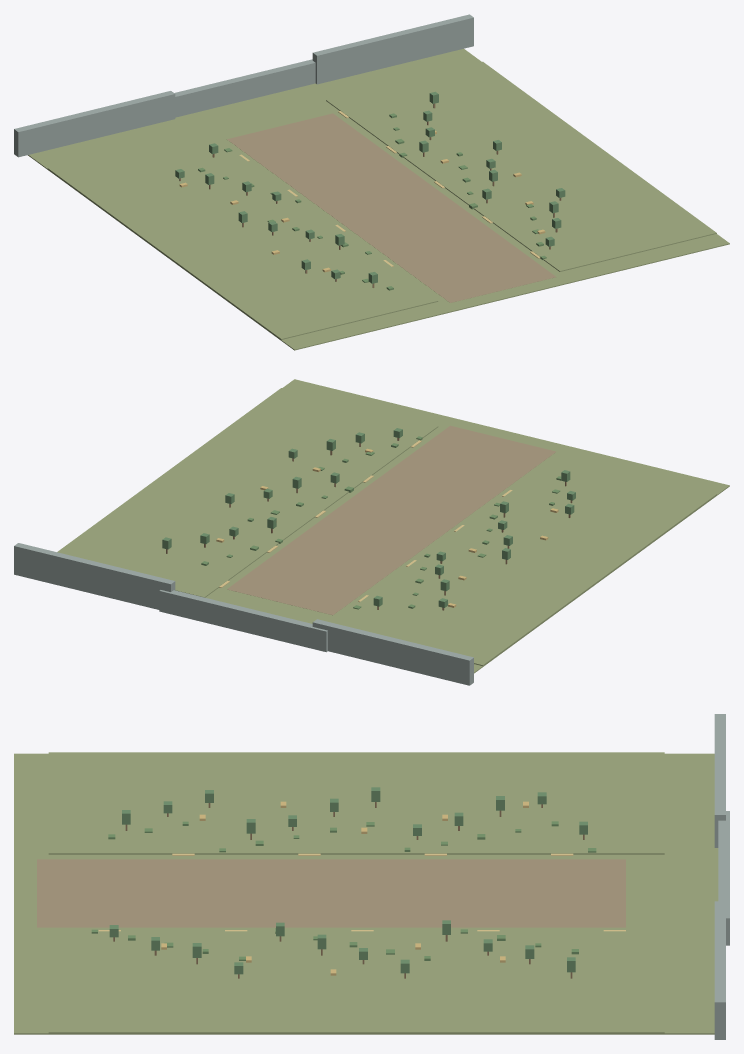
The model's file is br-field.gltf.
3 renders of one model, top to bottom at view 1: azimuth 30°, elevation 25°; view 2: azimuth 150°, elevation 25°; view 3: azimuth 270°, elevation 25°, orthographic. The views are drawn at different scales.
Visible parts, largest first — view 1: left-low-hill, right-low-hill, corridor-flat-earth, ground-base, mountain-right, mountain-left, mountain-center; view 2: left-low-hill, right-low-hill, corridor-flat-earth, ground-base, mountain-right, mountain-left, mountain-center; view 3: right-low-hill, left-low-hill, corridor-flat-earth, ground-base, mountain-right, mountain-left, mountain-center.
Part boxes in pixels (x1=…): left-low-hill: x1=47, y1=129, x2=438, y2=339; right-low-hill: x1=326, y1=61, x2=716, y2=271; corridor-flat-earth: x1=227, y1=113, x2=556, y2=302; ground-base: x1=28, y1=48, x2=729, y2=350; mountain-right: x1=312, y1=14, x2=473, y2=84; mountain-left: x1=14, y1=91, x2=175, y2=157; mountain-center: x1=174, y1=59, x2=315, y2=117; left-low-hill: x1=332, y1=456, x2=716, y2=665; right-low-hill: x1=57, y1=388, x2=438, y2=597; corridor-flat-earth: x1=227, y1=425, x2=556, y2=615; ground-base: x1=205, y1=379, x2=729, y2=673; mountain-right: x1=14, y1=543, x2=175, y2=609; mountain-left: x1=312, y1=619, x2=473, y2=685; mountain-center: x1=159, y1=590, x2=327, y2=652; right-low-hill: x1=48, y1=931, x2=664, y2=1034; left-low-hill: x1=48, y1=752, x2=664, y2=854; corridor-flat-earth: x1=37, y1=859, x2=625, y2=927; ground-base: x1=14, y1=753, x2=718, y2=1034; mountain-right: x1=714, y1=901, x2=725, y2=1039; mountain-left: x1=714, y1=714, x2=725, y2=847; mountain-center: x1=718, y1=811, x2=729, y2=945.
Bounding box in the file's own units: 180 × 11.15 × 186.
